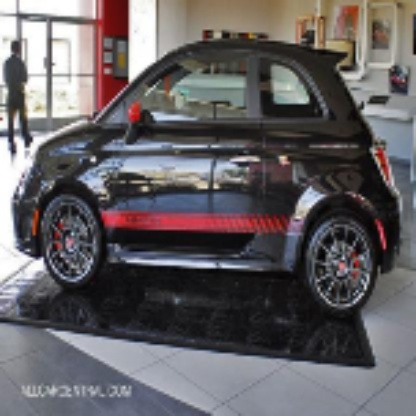Vehicle: (11, 8, 405, 322)
